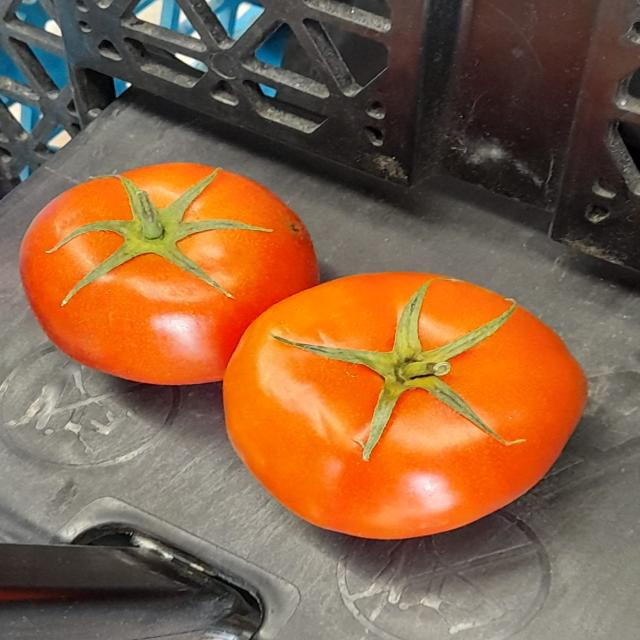tomato: (225, 241, 603, 547), (32, 144, 338, 395)
